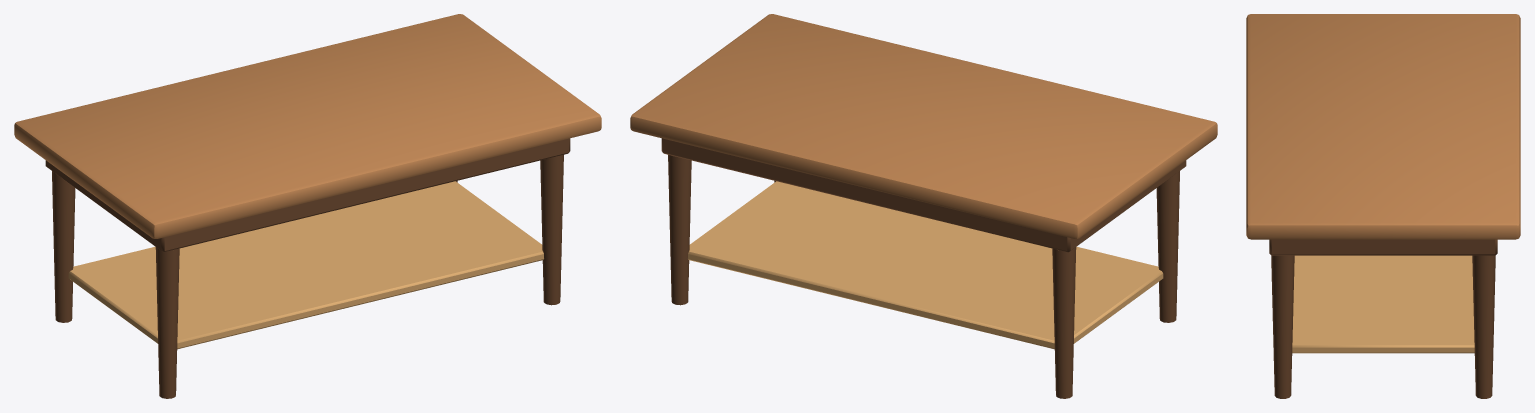
File: coffee_table.glb
The picture shows the model from 3 angles, left to right: view 1: azimuth 30°, elevation 25°; view 2: azimuth 150°, elevation 25°; view 3: azimuth 270°, elevation 25°; orthographic projection. The views are drawn at different scales.
Parts seen in each view (by area): view 1: body; view 2: body; view 3: body.
Part boxes in pixels (left/top/right/bottom): body: left=14, top=14, right=601, bottom=398; body: left=630, top=14, right=1217, bottom=398; body: left=1246, top=14, right=1520, bottom=398.
Bounding box in the file's own units: 110 × 45 × 60.
